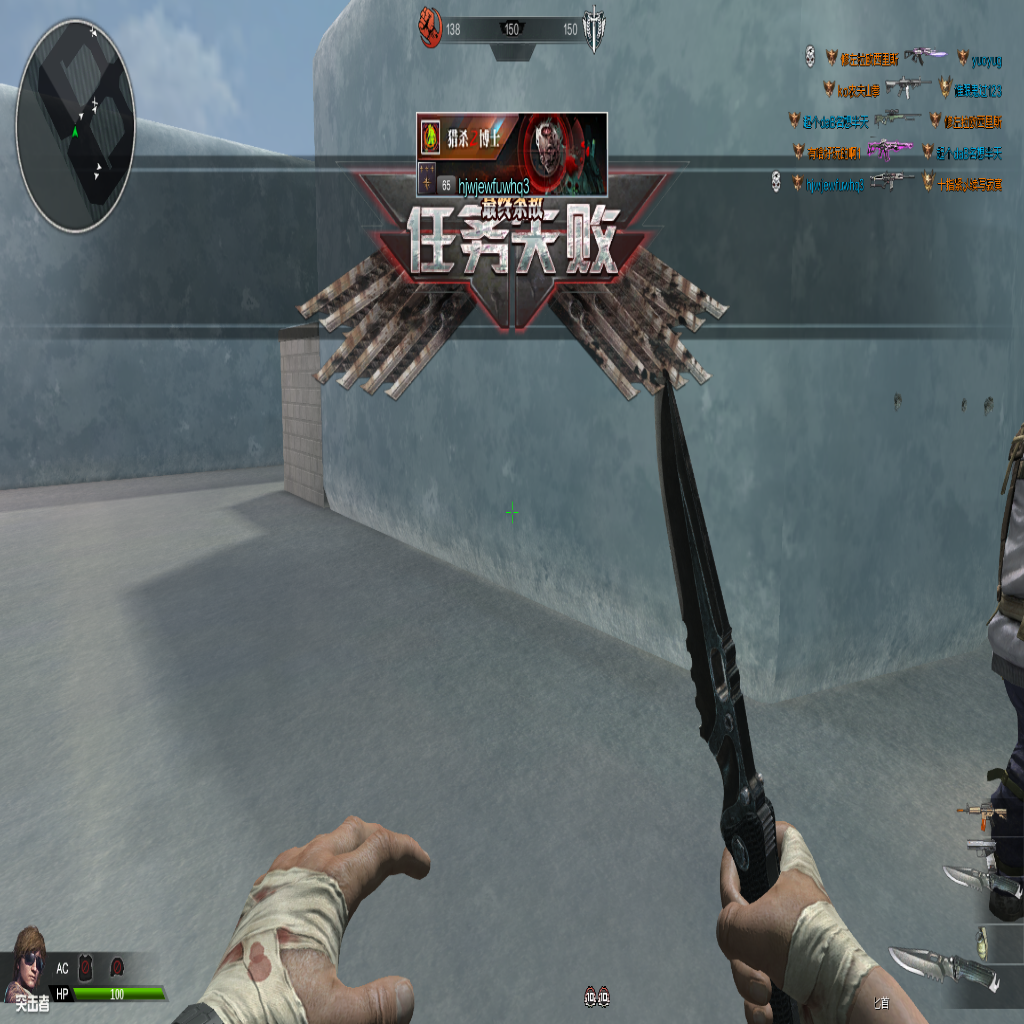tt: (981, 302, 1023, 917)
